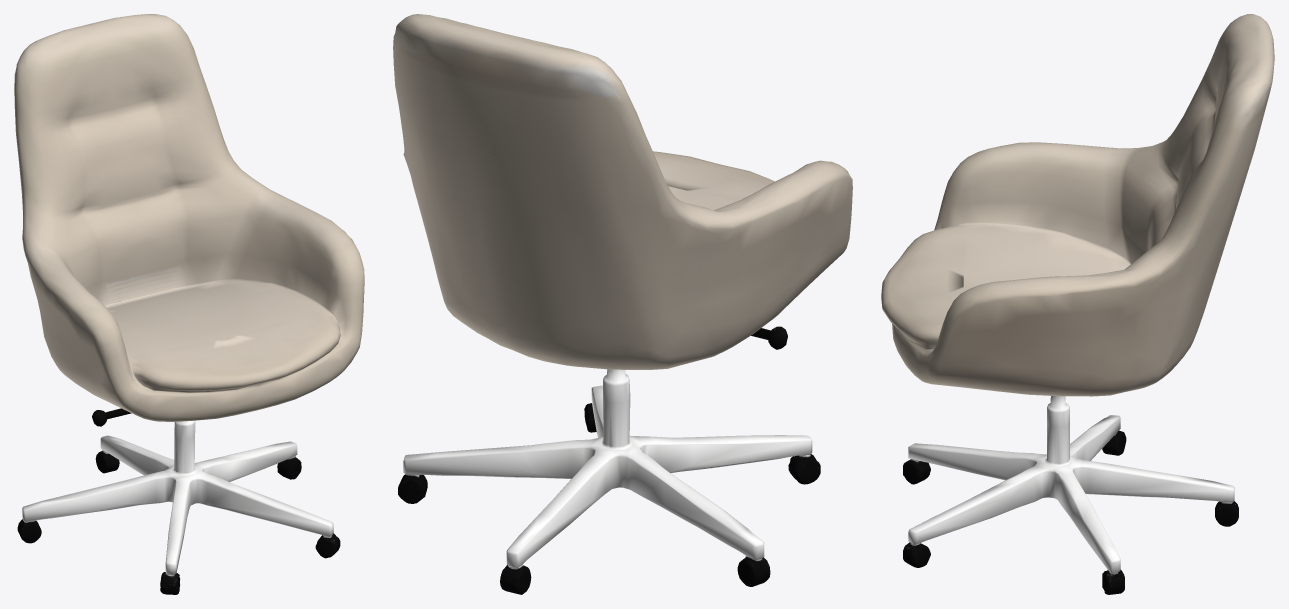
Rendered from Meshy_AI_A_stylized_low_poly_s_0428231335_texture.fbx.
3 renders of one model, left to right at view 1: azimuth 30°, elevation 25°; view 2: azimuth 150°, elevation 25°; view 3: azimuth 270°, elevation 25°, orthographic. The views are drawn at different scales.
Visible parts, largest first — view 1: Mesh_0; view 2: Mesh_0; view 3: Mesh_0.
Part boxes in pixels (bbox=[...]): Mesh_0: bbox=[14, 14, 364, 594]; Mesh_0: bbox=[393, 14, 852, 594]; Mesh_0: bbox=[881, 14, 1274, 594].
Size of the model in its own units: 130 by 191 by 142.
Materials: 1 (1 with a texture image).
